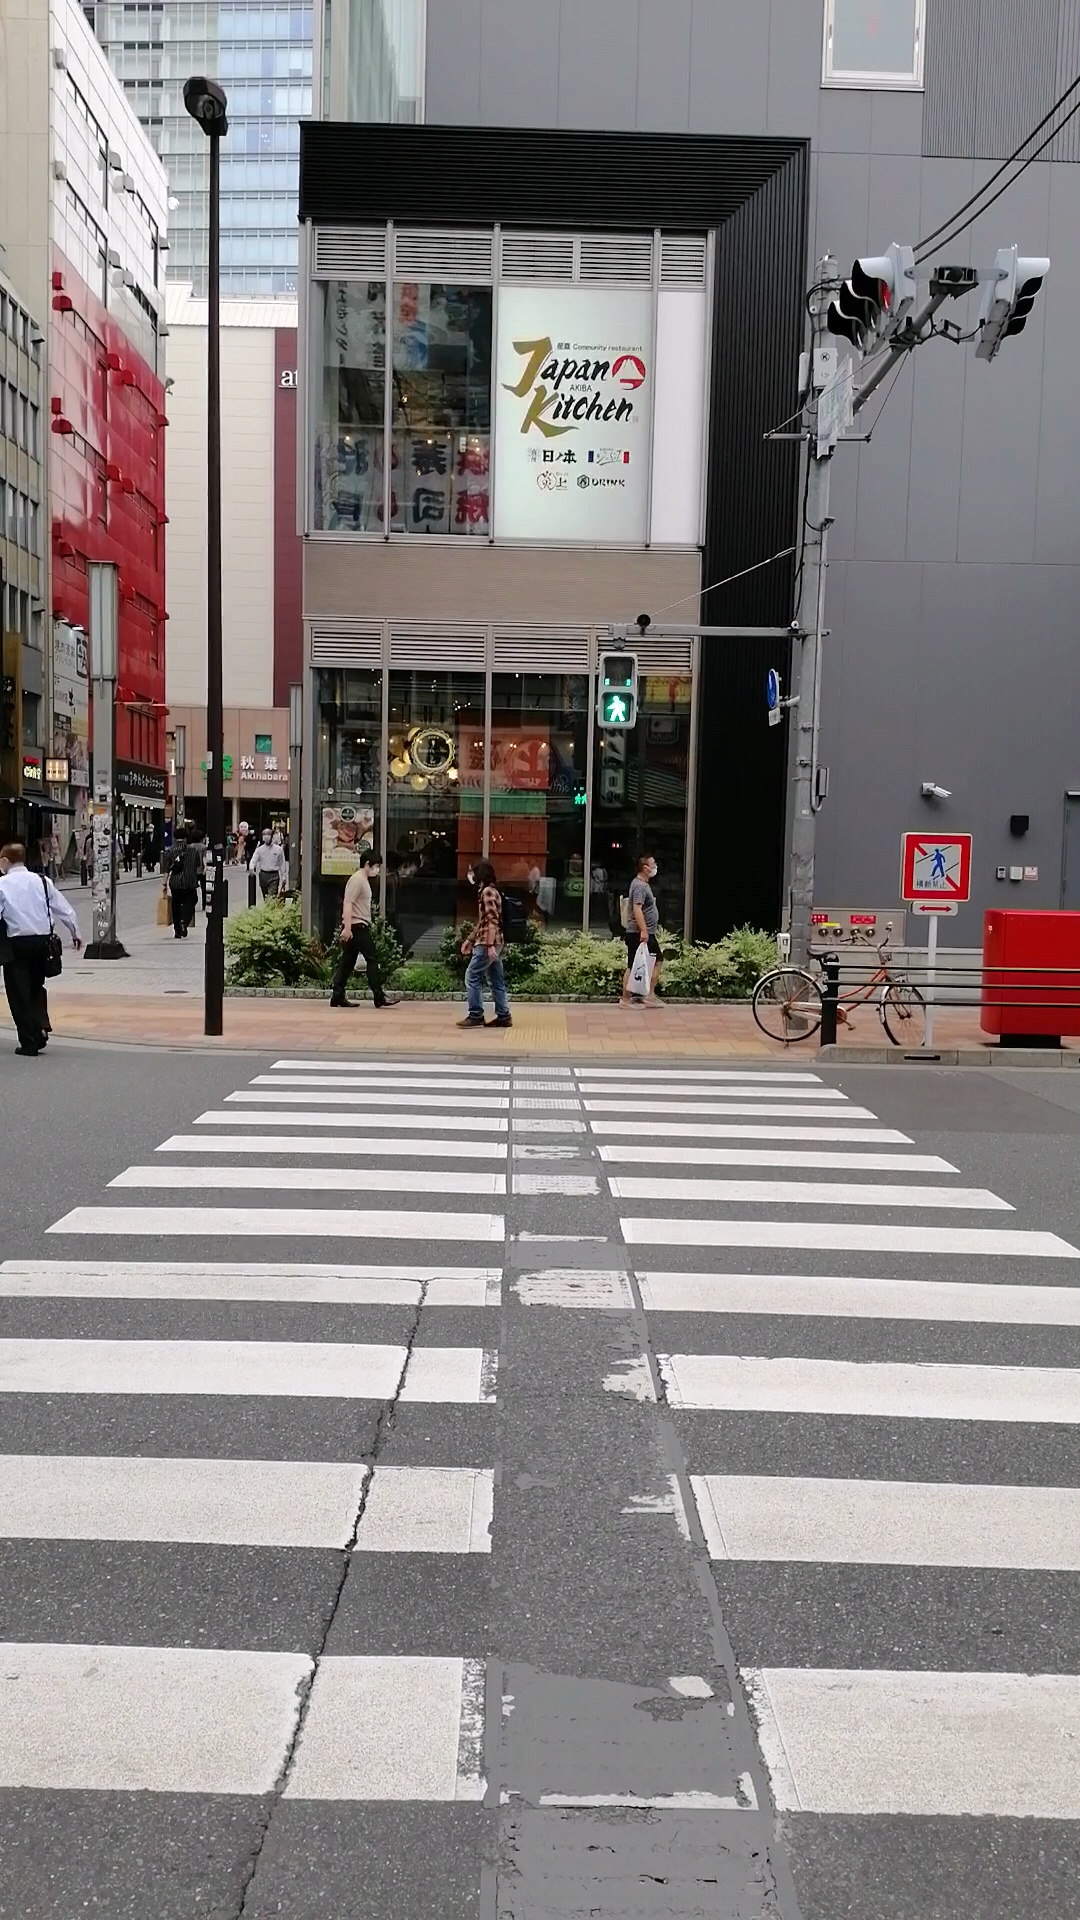green: (596, 651, 636, 728)
